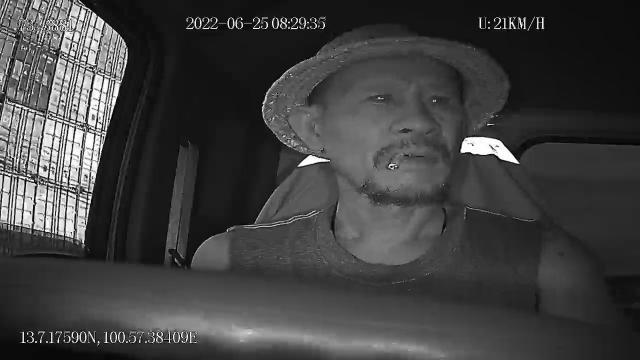SafeDriving: (362, 84, 398, 110), (421, 88, 452, 112)
Smoking: (388, 151, 404, 171)
